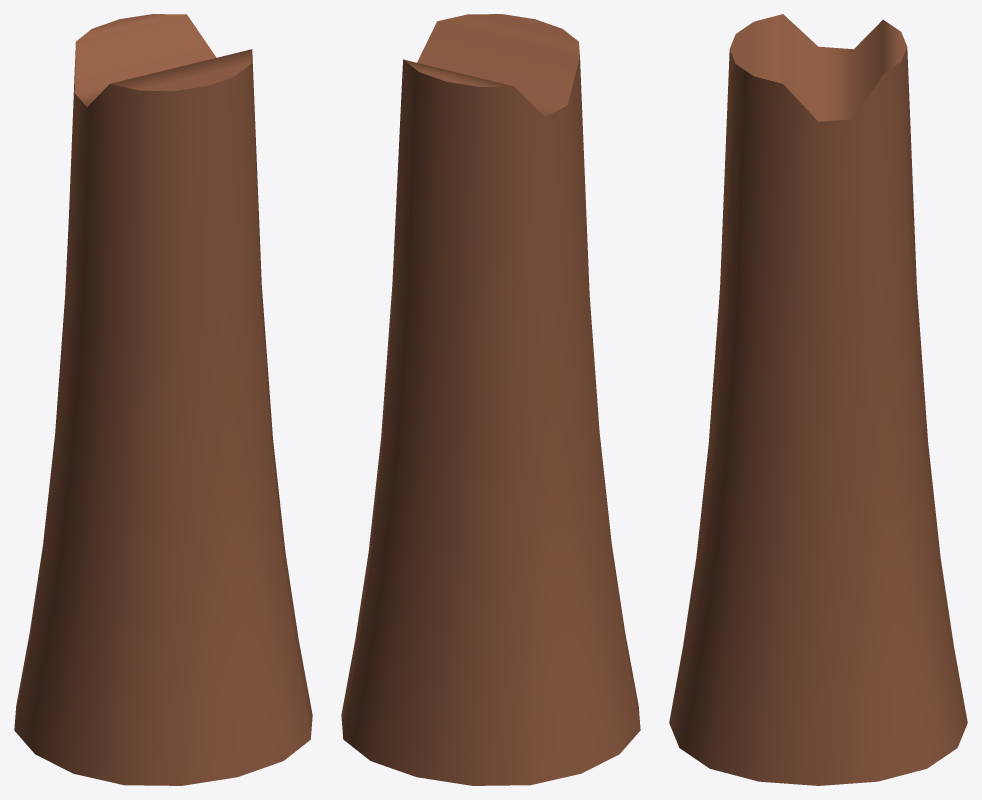
The model's file is tree5.fbx.
The picture shows the model from 3 angles, left to right: view 1: azimuth 30°, elevation 25°; view 2: azimuth 150°, elevation 25°; view 3: azimuth 270°, elevation 25°; orthographic projection.
Parts seen in each view (by area): view 1: Cube.047; view 2: Cube.047; view 3: Cube.047.
Boxes of the visible parts, <box> form: Cube.047: <box>14,14,312,785</box>; Cube.047: <box>341,14,640,785</box>; Cube.047: <box>669,14,967,785</box>.
Bounding box in the file's own units: 0.7208 × 0.7208 × 1.8.
